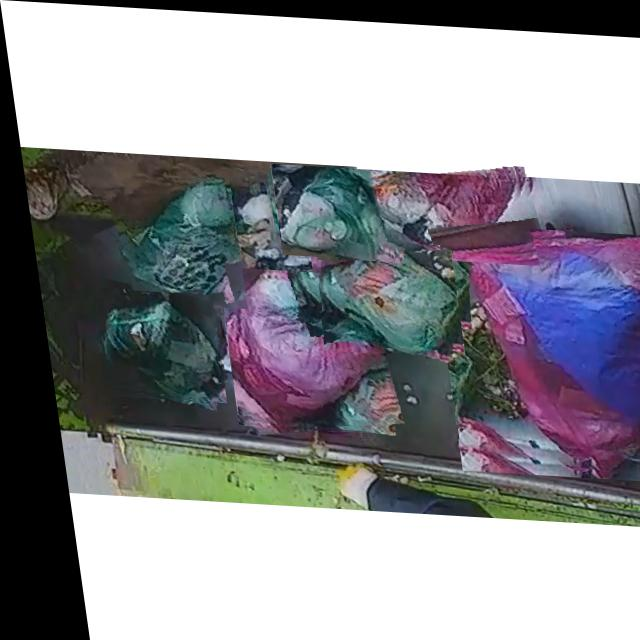general_trashbag: (309, 238, 449, 350), (122, 174, 233, 304), (94, 291, 209, 397), (95, 290, 201, 387), (274, 164, 376, 254), (265, 173, 334, 230)
other_trashbag: (439, 221, 640, 466), (217, 268, 365, 423), (354, 161, 513, 253)
